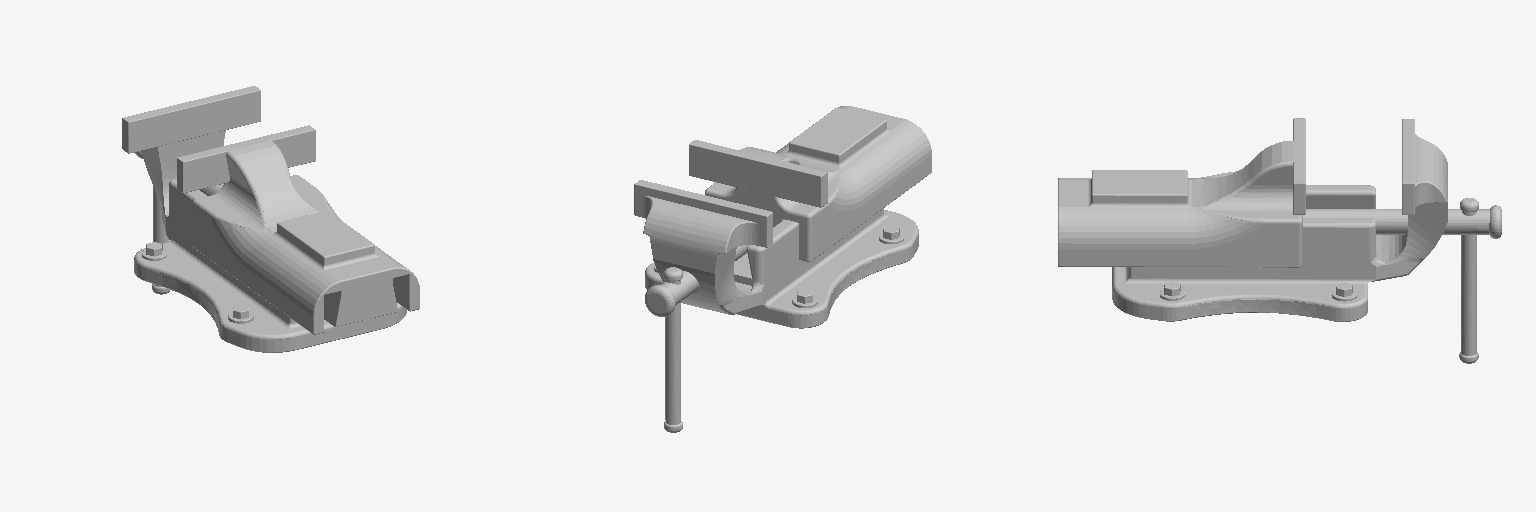
The model's file is Schraubstock.obj.
The picture shows the model from 3 angles: view 1: azimuth 30°, elevation 25°; view 2: azimuth 150°, elevation 25°; view 3: azimuth 270°, elevation 25°; orthographic projection.
Parts seen in each view (by area): view 1: Bench_Vise.001, Bench_Vise; view 2: Bench_Vise, Bench_Vise.001; view 3: Bench_Vise, Bench_Vise.001.
Boxes of the visible parts, x1,y1,x2,y2 form: Bench_Vise.001: [177, 125, 419, 334]; Bench_Vise: [122, 86, 406, 352]; Bench_Vise: [634, 180, 918, 432]; Bench_Vise.001: [689, 106, 931, 261]; Bench_Vise: [1112, 119, 1501, 363]; Bench_Vise.001: [1058, 118, 1305, 267].
Bounding box in the file's own units: 0.1276 × 0.1452 × 0.2778.